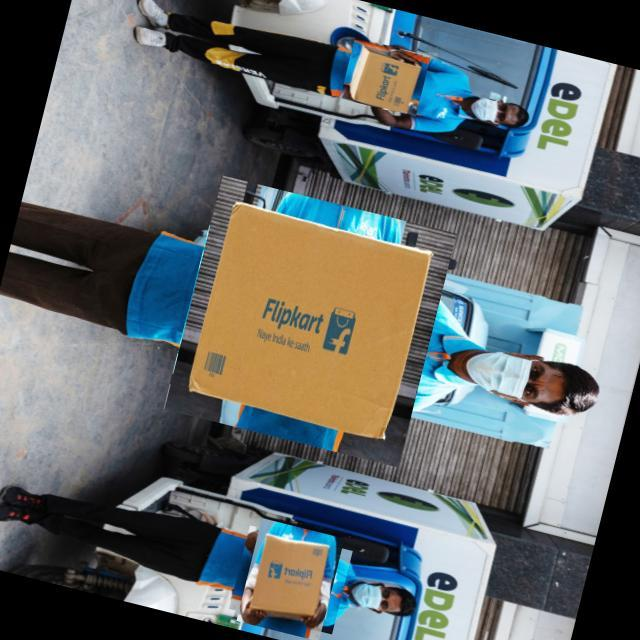cardboxes: (187, 203, 434, 446), (250, 536, 330, 616), (349, 46, 422, 116)
